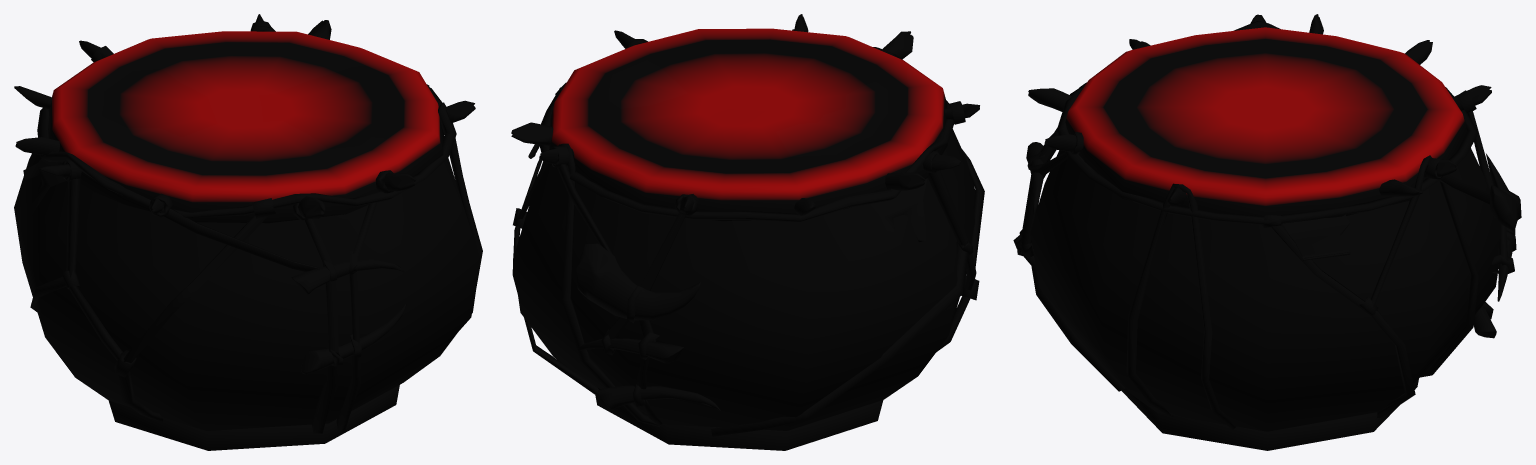
The model's file is drums_generic_arena_b.gltf.
The picture shows the model from 3 angles, left to right: view 1: azimuth 30°, elevation 25°; view 2: azimuth 150°, elevation 25°; view 3: azimuth 270°, elevation 25°; orthographic projection.
Parts seen in each view (by area): view 1: drums_generic_arena_b; view 2: drums_generic_arena_b; view 3: drums_generic_arena_b.
Part boxes in pixels (<box>): drums_generic_arena_b: <box>14,14,482,450</box>; drums_generic_arena_b: <box>511,14,984,450</box>; drums_generic_arena_b: <box>1013,14,1521,450</box>.
Size of the model in its own units: 0.9936 by 0.634 by 1.05.
